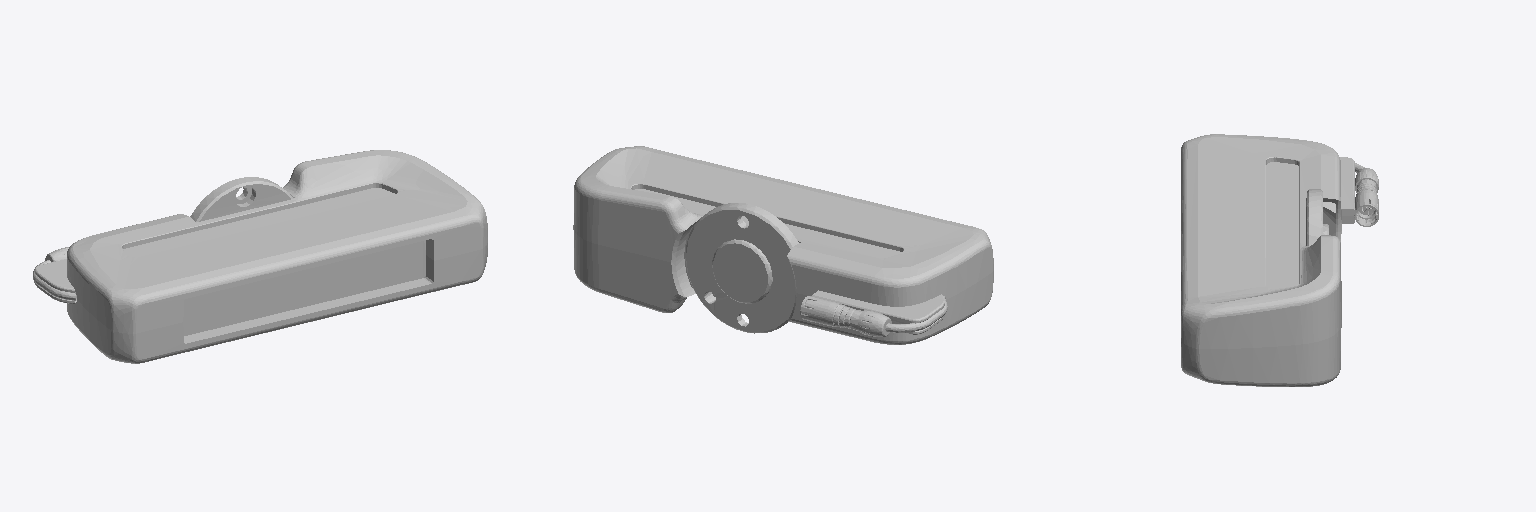
File: hand.obj
The picture shows the model from 3 angles: view 1: azimuth 30°, elevation 25°; view 2: azimuth 150°, elevation 25°; view 3: azimuth 270°, elevation 25°; orthographic projection.
Visible parts, largest first — view 1: hand; view 2: hand; view 3: hand.
Boxes of the visible parts, box(x1,y1,x2,y2) form: hand: box(33, 150, 487, 363); hand: box(573, 146, 993, 344); hand: box(1181, 134, 1378, 386).
Bounding box in the file's own units: 0.2045 × 0.063 × 0.0919.